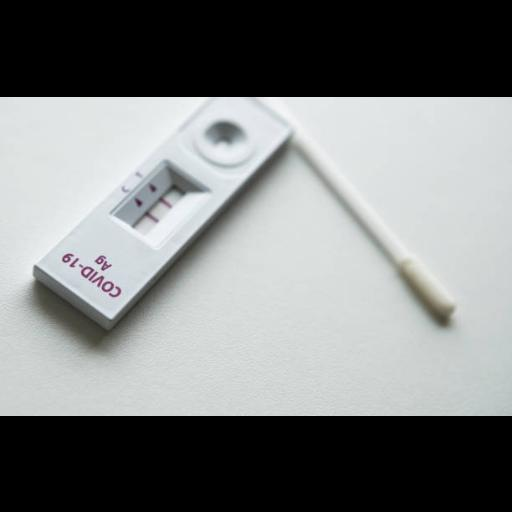Pos: (33, 96, 281, 320)
